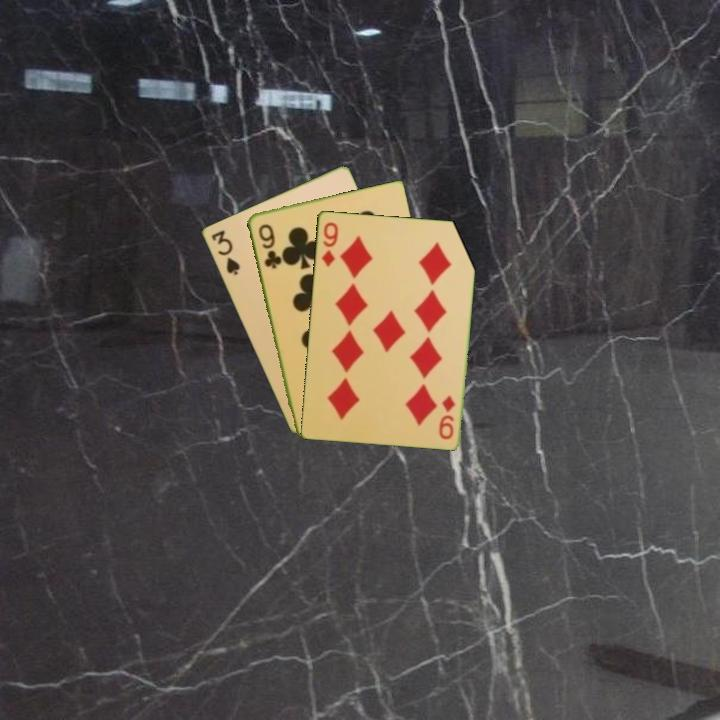3s: (207, 226, 243, 278)
9c: (255, 220, 282, 271)
9d: (317, 218, 341, 269), (436, 391, 458, 442)
